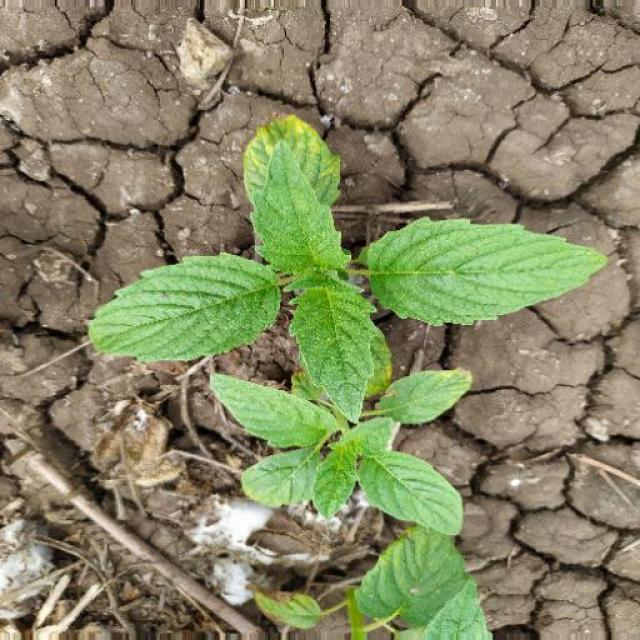crop: (73, 100, 618, 536)
